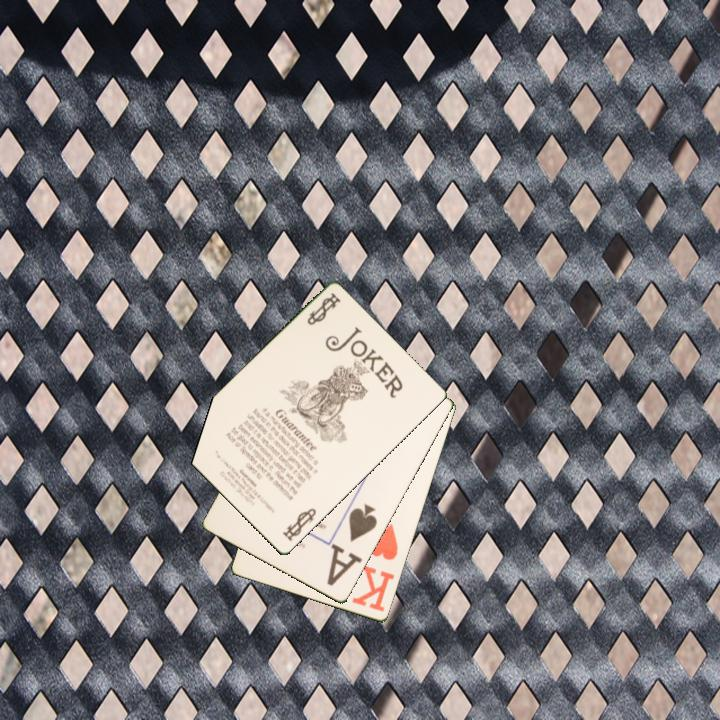As: (329, 501, 380, 581)
JK: (303, 289, 344, 329), (279, 505, 319, 545)
Kh: (349, 521, 401, 615)
